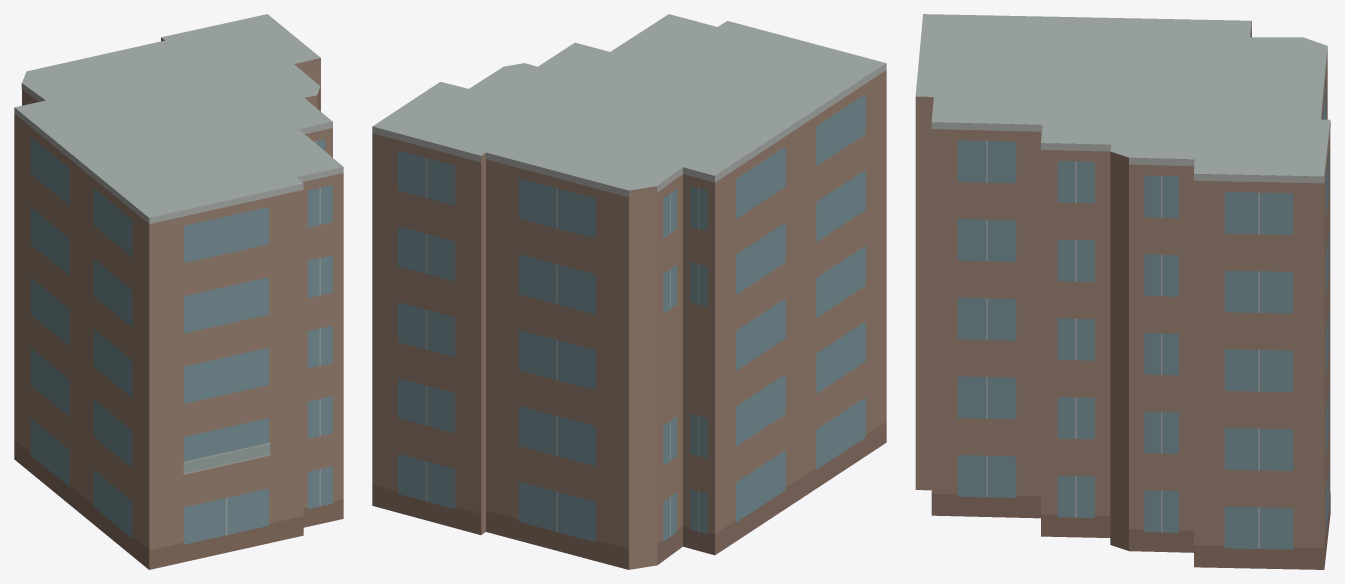
File: survey-upis-32994491.glb
3 renders of one model, left to right at view 1: azimuth 30°, elevation 25°; view 2: azimuth 150°, elevation 25°; view 3: azimuth 270°, elevation 25°, orthographic. The views are drawn at different scales.
Parts seen in each view (by area): view 1: survey-upis-32994491.tmp; view 2: survey-upis-32994491.tmp; view 3: survey-upis-32994491.tmp.
Part boxes in pixels (x1,y1,x2,y2): survey-upis-32994491.tmp: [14, 14, 343, 569]; survey-upis-32994491.tmp: [372, 14, 886, 569]; survey-upis-32994491.tmp: [915, 14, 1330, 569].
Size of the model in its own units: 12.23 by 13.8 by 13.2.
